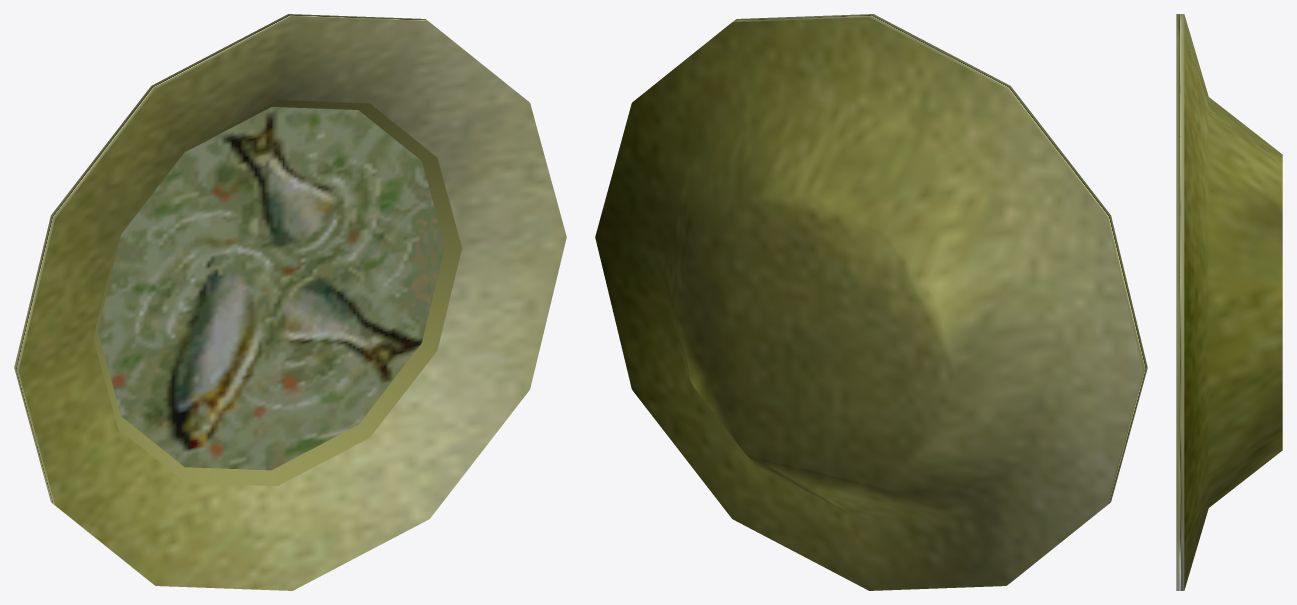
File: ItFo_FishSoup.fbx
3 renders of one model, left to right at view 1: azimuth 30°, elevation 25°; view 2: azimuth 150°, elevation 25°; view 3: azimuth 270°, elevation 25°, orthographic. The views are drawn at different scales.
Visible parts, largest first — view 1: 3DSMesh_0; view 2: 3DSMesh_0; view 3: 3DSMesh_0.
Boxes of the visible parts, <box> form: 3DSMesh_0: <box>14,14,566,590</box>; 3DSMesh_0: <box>595,14,1147,590</box>; 3DSMesh_0: <box>1176,14,1282,590</box>.
Size of the model in its own units: 34.2 by 34.2 by 6.27.
